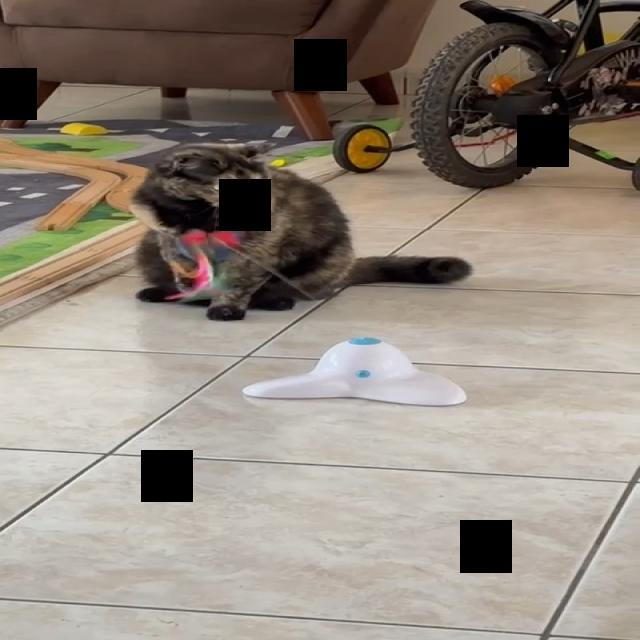authorized: (127, 140, 472, 321)
